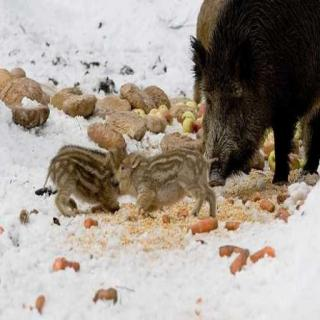Pig: (179, 0, 320, 193), (109, 145, 217, 224), (46, 142, 124, 225)
